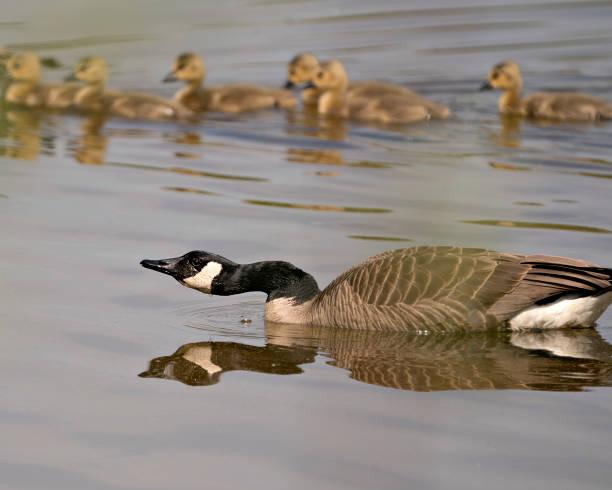Canadian-Goose: (138, 241, 612, 337), (480, 61, 612, 128), (305, 62, 432, 128), (163, 48, 286, 116), (69, 55, 175, 125), (1, 53, 71, 108), (288, 48, 313, 89)
